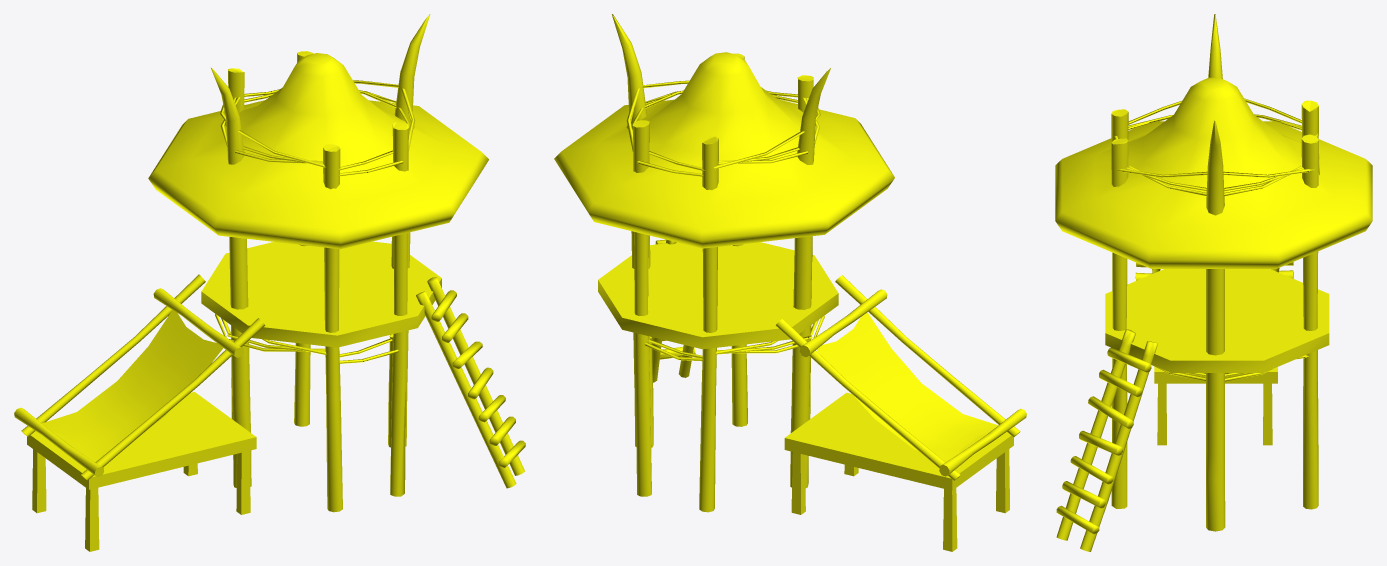
File: camp_redthief_build_02.glb
The picture shows the model from 3 angles, left to right: view 1: azimuth 30°, elevation 25°; view 2: azimuth 150°, elevation 25°; view 3: azimuth 270°, elevation 25°; orthographic projection.
Parts seen in each view (by area): view 1: camp_redthief_build_02; view 2: camp_redthief_build_02; view 3: camp_redthief_build_02.
Boxes of the visible parts, x1,y1,x2,y2 form: camp_redthief_build_02: (14,14,525,551); camp_redthief_build_02: (554,14,1026,551); camp_redthief_build_02: (1055,14,1372,551).
Size of the model in its own units: 12.77 by 12.62 by 8.52.
Materials: 3 (3 with a texture image).
